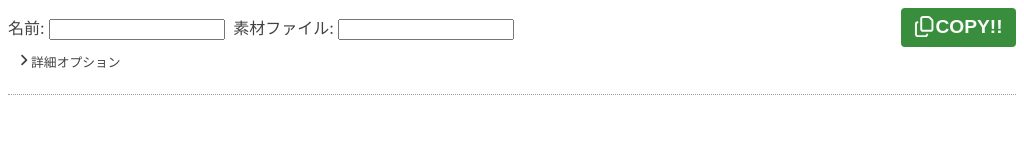
Test: Options › load
This screenshot has width=1024, height=168.
What coordinates should you click on to do the following:
click the button with test id "export-options-button"
I would click on:
 (69, 63)
Its box is [8, 47, 130, 78].
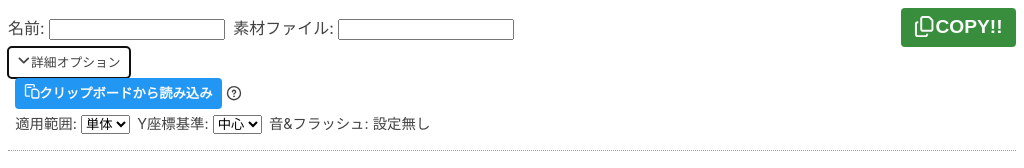
What coordinates should you click on to do the following:
click the button "クリップボードから読み込み"
I would click on:
 (119, 93)
Its box is [15, 78, 222, 109].
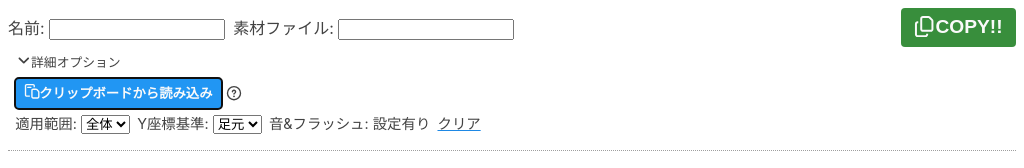
Expected: the button "クリップボードから読み込み" is shown, [15, 78, 222, 109]
Expected: the dropdown with test id "export-options-target" shows "全体", [81, 115, 130, 134]
Expected: the dropdown with test id "export-options-yline" shows "足元", [213, 115, 262, 134]
